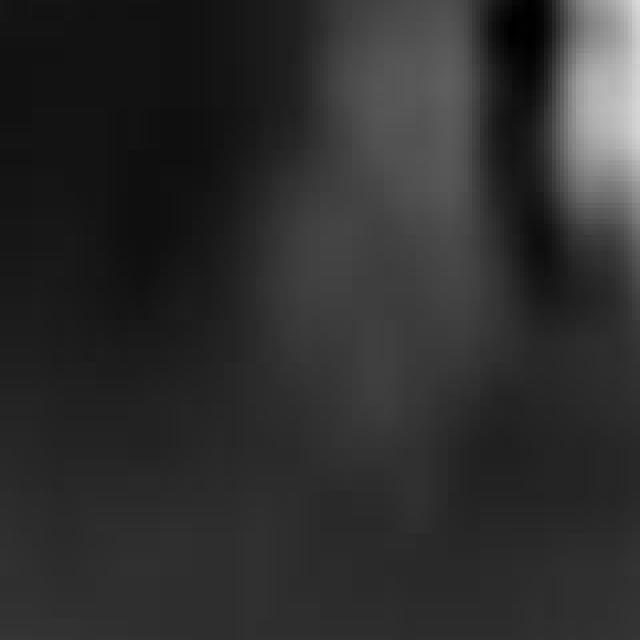person: (293, 1, 485, 476), (549, 1, 640, 305)
